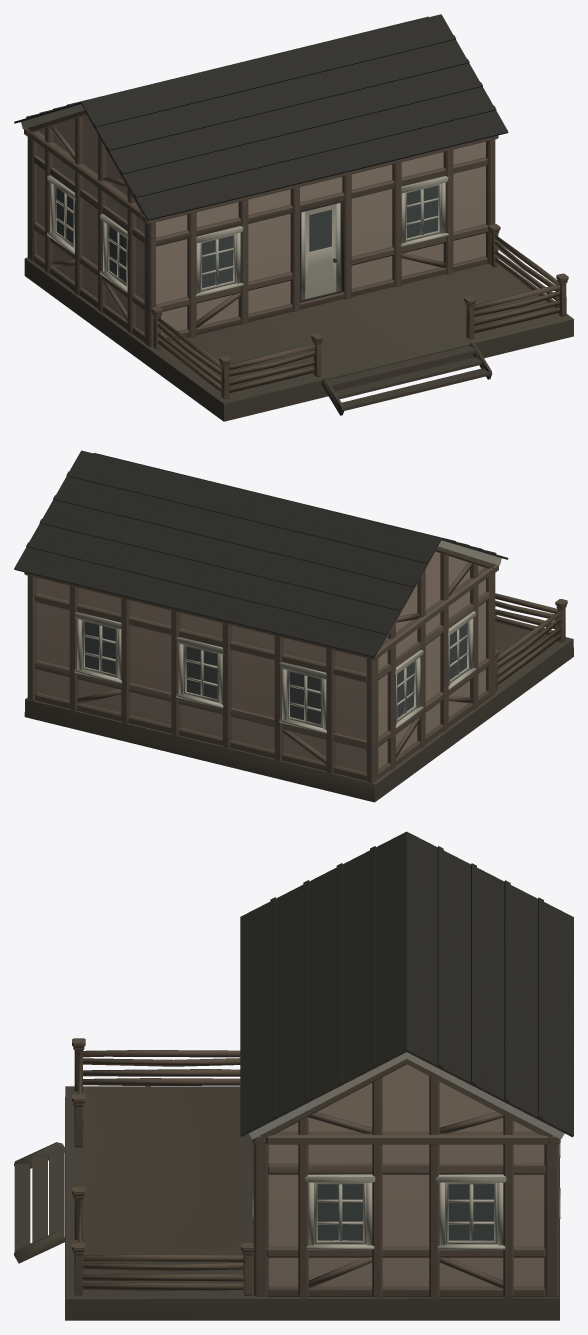
File: farm_house_1.glb
The picture shows the model from 3 angles, top to bottom: view 1: azimuth 30°, elevation 25°; view 2: azimuth 150°, elevation 25°; view 3: azimuth 270°, elevation 25°; orthographic projection. The views are drawn at different scales.
Visible parts, largest first — view 1: farm_house_1; view 2: farm_house_1; view 3: farm_house_1.
Part boxes in pixels (x1,y1,x2,y2): farm_house_1: (14, 14, 573, 421); farm_house_1: (14, 450, 573, 802); farm_house_1: (14, 831, 573, 1320).
Bounding box in the file's own units: 10.64 × 6.34 × 11.53.
Materials: 1 (1 with a texture image).
